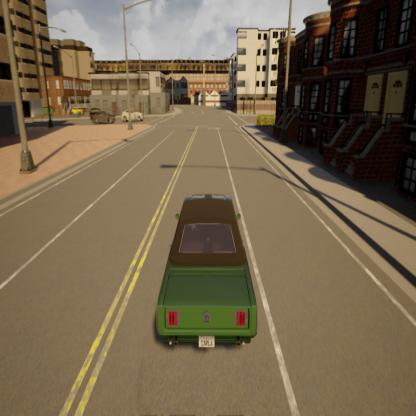Cars: (145, 178, 266, 366), (119, 103, 148, 125), (91, 110, 118, 127), (68, 103, 85, 121)
